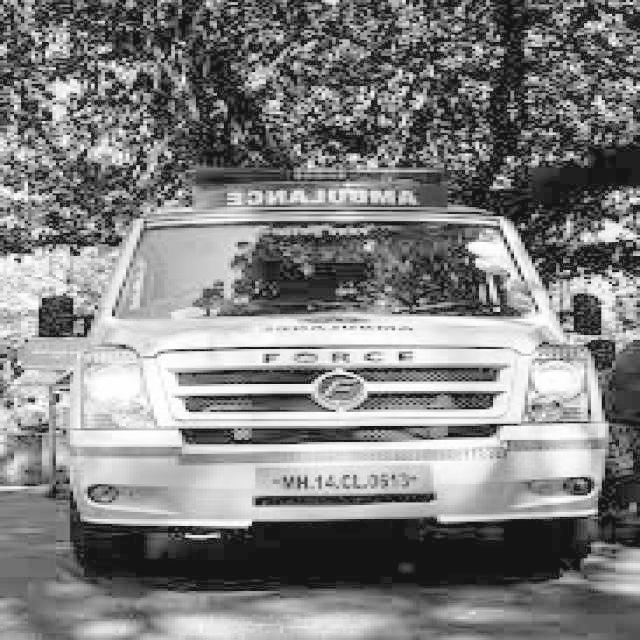LCV: (28, 168, 600, 533)
